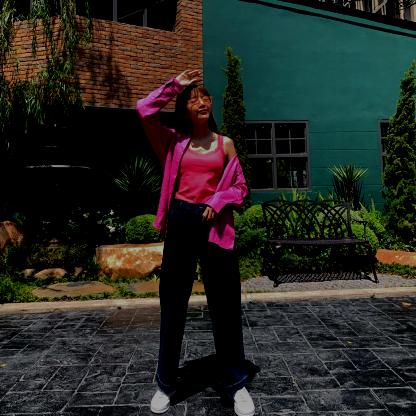dress: (158, 197, 252, 395)
jacket: (175, 136, 228, 204)
